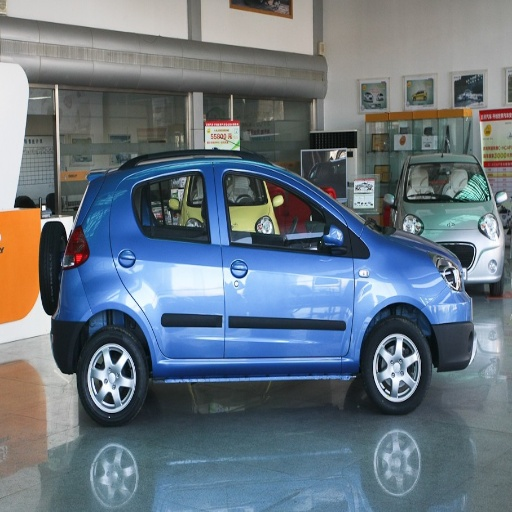back_right_door: (117, 163, 224, 361)
front_right_door: (216, 165, 354, 369)
trunk: (112, 444, 178, 503)
